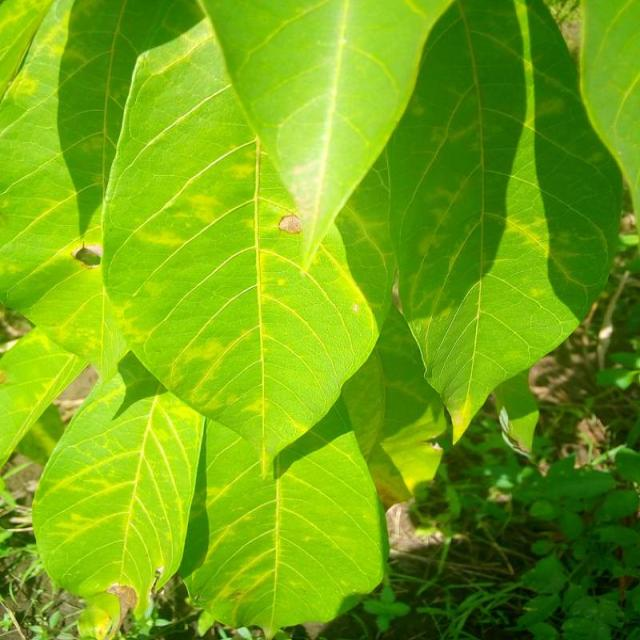cassava leaf: (1, 0, 626, 636), (100, 14, 382, 473), (197, 0, 451, 272), (178, 413, 390, 638), (31, 357, 206, 624)
